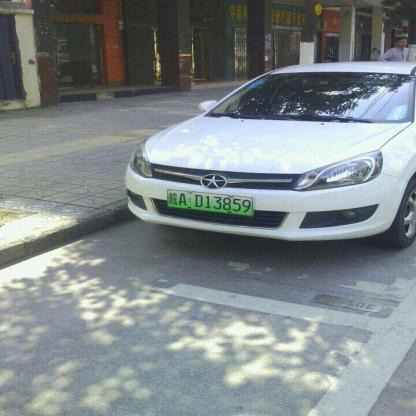lp: (167, 189, 252, 215)
